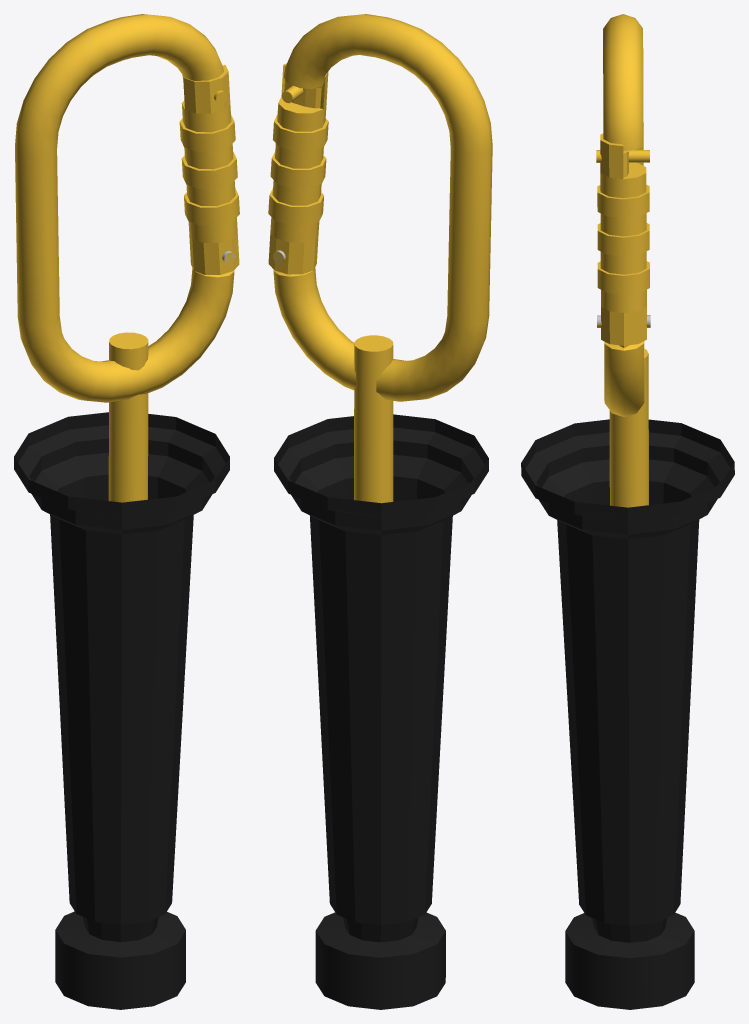
File: Winch-Hook.fbx
The picture shows the model from 3 angles, left to right: view 1: azimuth 30°, elevation 25°; view 2: azimuth 150°, elevation 25°; view 3: azimuth 270°, elevation 25°; orthographic projection.
Parts seen in each view (by area): view 1: Winch-Hook; view 2: Winch-Hook; view 3: Winch-Hook.
Boxes of the visible parts, bbox=[...] form: Winch-Hook: bbox=[14, 14, 239, 1009]; Winch-Hook: bbox=[268, 14, 492, 1009]; Winch-Hook: bbox=[521, 14, 734, 1009].
Size of the model in its own units: 7.76 by 33.04 by 6.63.
